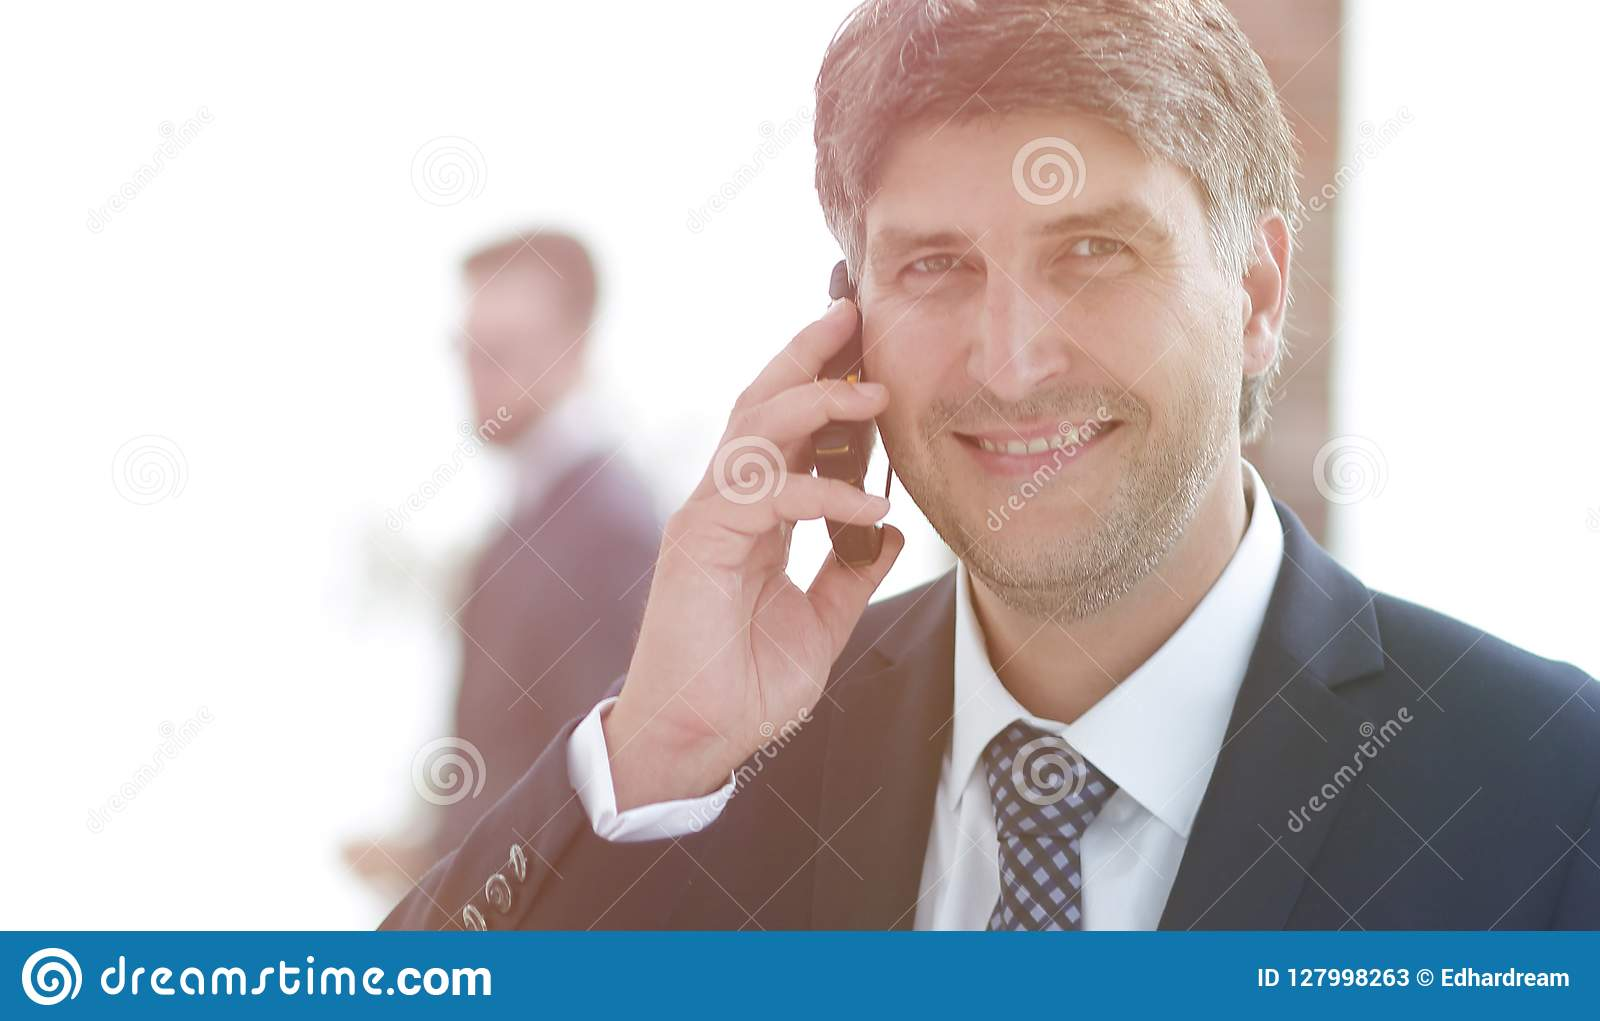phone: (797, 242, 903, 568)
talk: (641, 177, 1191, 755)
